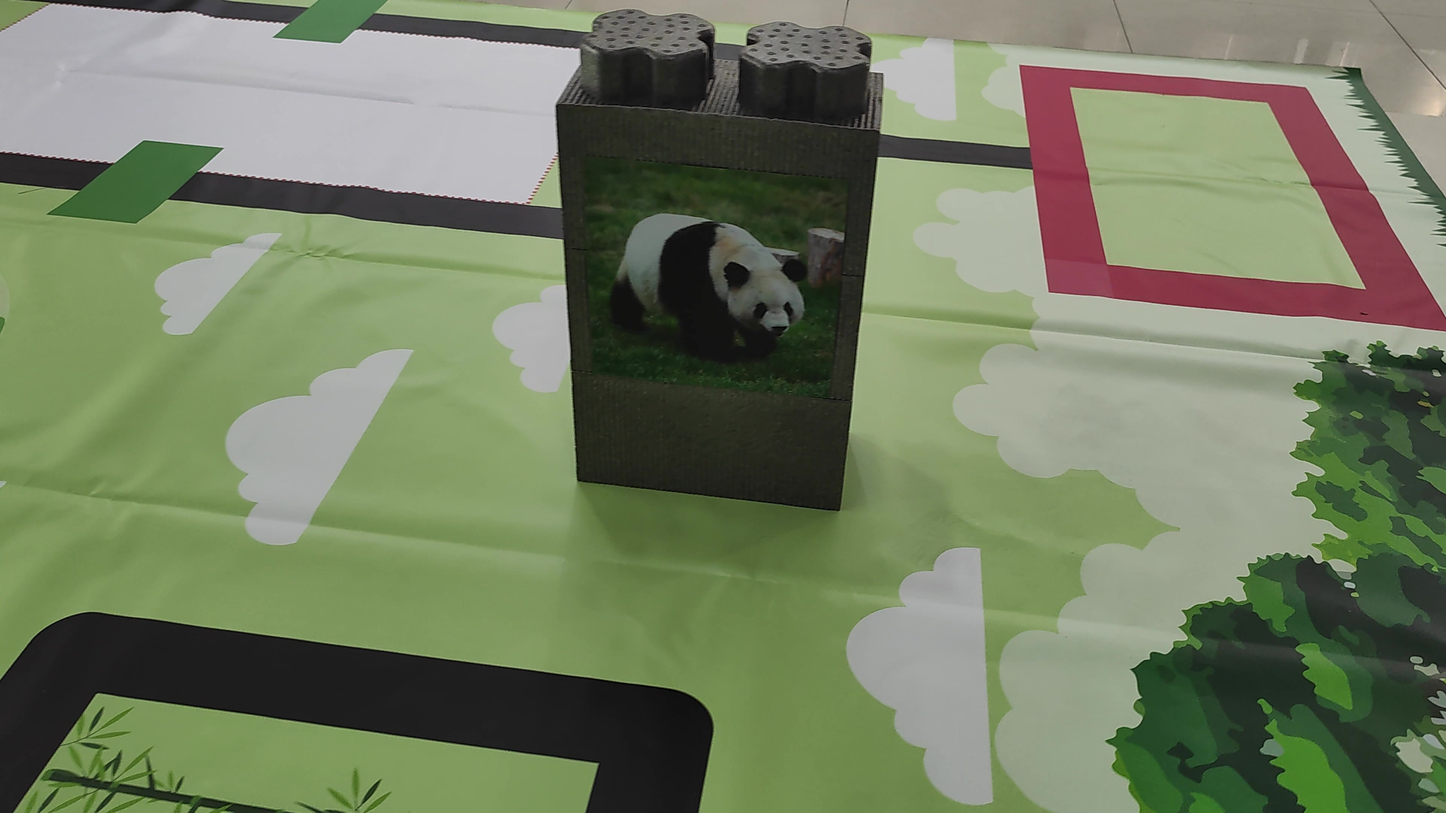panda: (586, 183, 816, 373)
